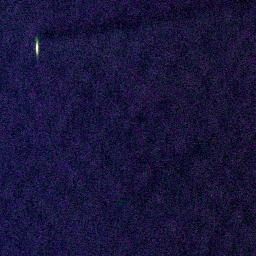Ship: (34, 37, 39, 56)
